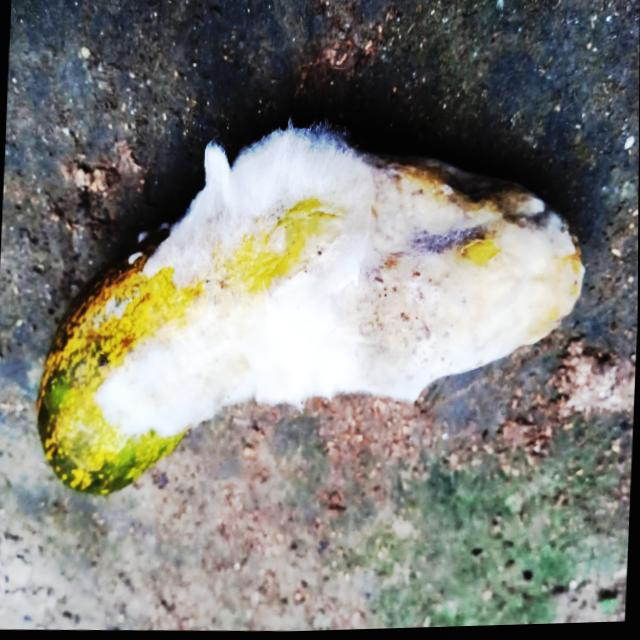Pythium-Fruit-Rot: (94, 117, 580, 457)
